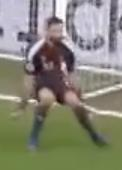goalkeeper: (10, 11, 116, 163)
